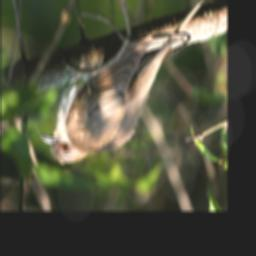Cuckoo: (38, 0, 219, 167)
